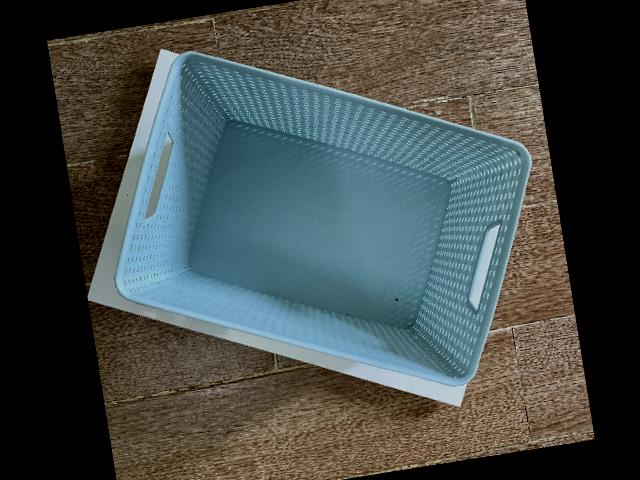cart: (114, 53, 529, 389)
